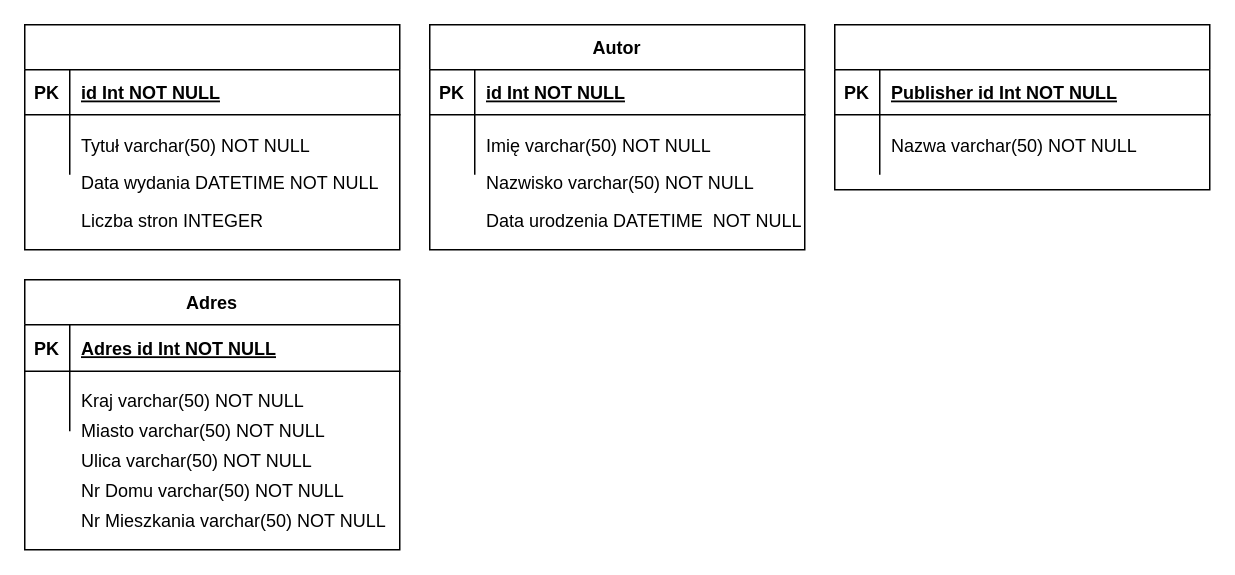
Image size: 1235x575. Some labels were removed from this diagram. Here are the shapes that lost their labels. From the top down, the box of each, then its label:
(833, 23, 1210, 190): Wydawnictwo
(23, 23, 400, 250): Książka
